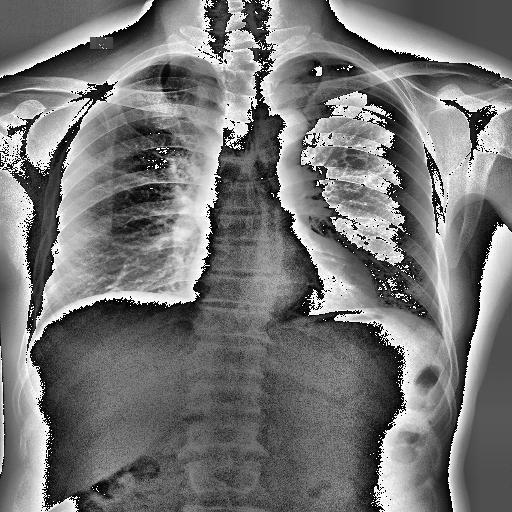0- Aortic enlargement: (250, 106, 308, 154), (255, 106, 310, 156), (268, 108, 308, 144)
11- Pleural thickening: (124, 52, 192, 74), (302, 52, 356, 64)
